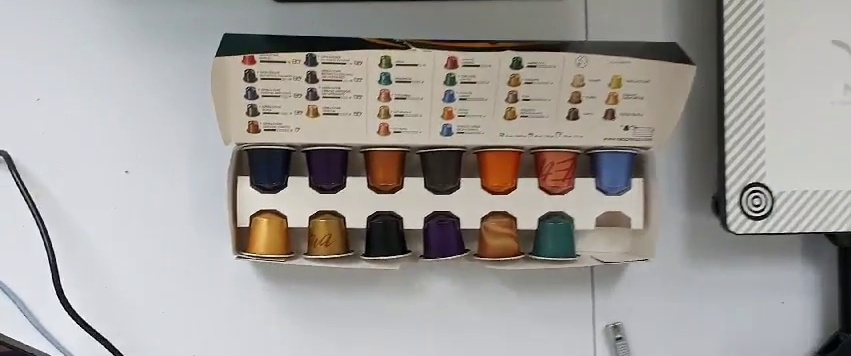capsule_1: (245, 140, 298, 194)
capsule_10: (360, 209, 411, 260)
capsule_11: (419, 210, 472, 261)
capsule_12: (476, 213, 525, 260)
capsule_13: (529, 211, 581, 264)
capsule_2: (302, 143, 353, 192)
capsule_3: (357, 147, 410, 195)
capsule_4: (418, 145, 467, 195)
capsule_5: (473, 146, 524, 196)
capsule_6: (527, 145, 581, 197)
capsule_7: (586, 147, 640, 196)
capsule_8: (241, 205, 294, 261)
capsule_9: (300, 209, 355, 261)
